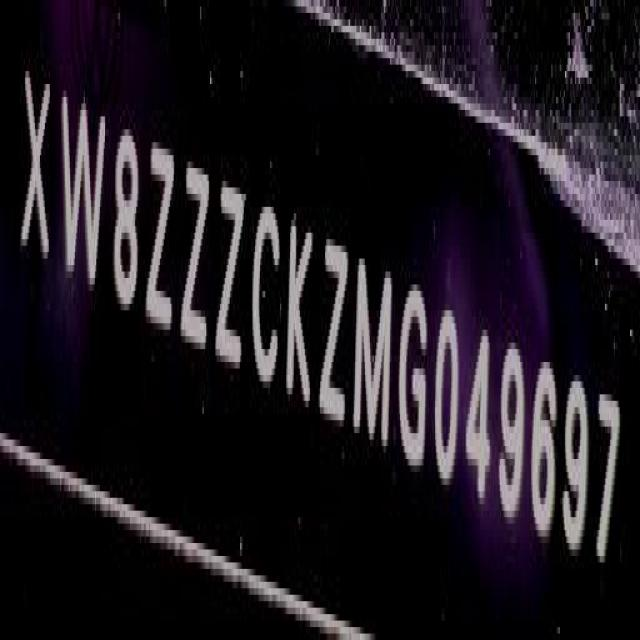0: (432, 301, 459, 491)
4: (466, 320, 494, 512)
6: (530, 354, 558, 544)
7: (596, 383, 622, 574)
8: (114, 122, 140, 320)
9: (562, 372, 591, 559), (499, 339, 527, 528)
C: (253, 192, 282, 395)
G: (397, 278, 429, 474)
K: (287, 209, 317, 416)
M: (349, 246, 395, 459)
W: (58, 78, 105, 299)
X: (20, 60, 53, 281)
Z: (317, 226, 348, 434), (147, 134, 177, 346), (215, 168, 245, 378), (182, 153, 212, 362)
